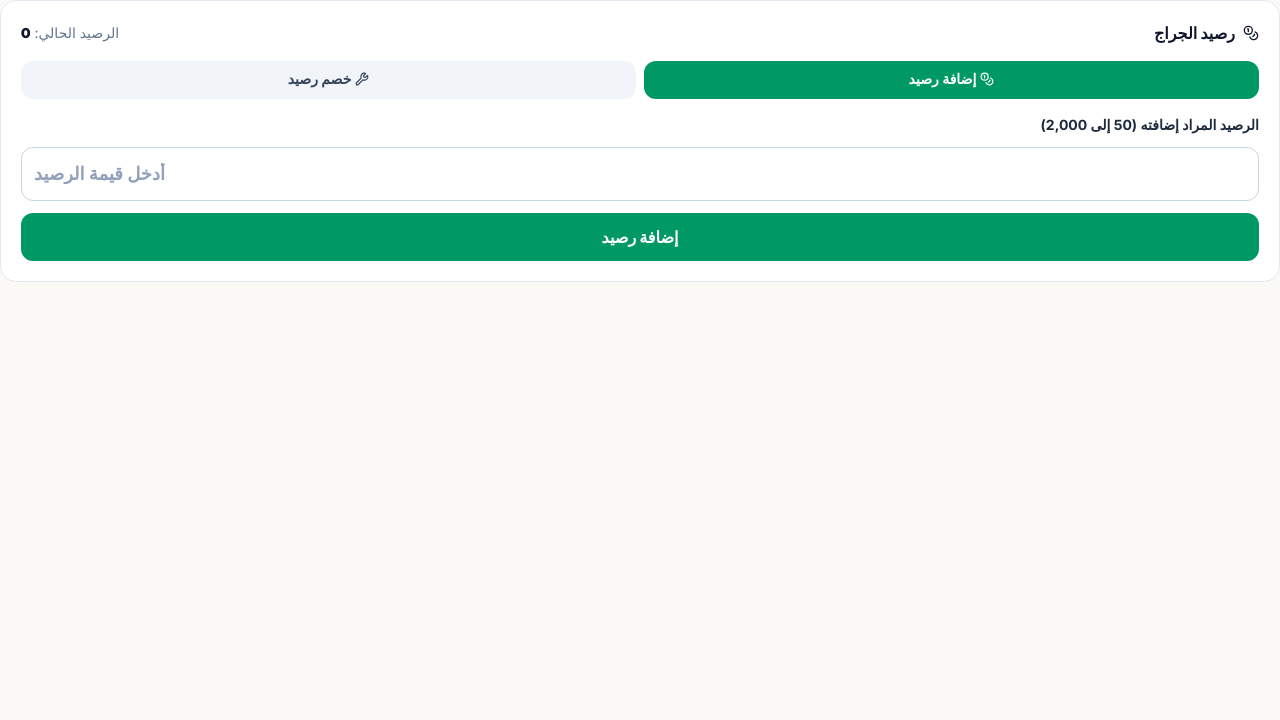
Test: AdminCreditGrantPanel › reuses the same idempotency key when retrying an ambiguous failed grant
The image size is (1280, 720).
Step 1. Type "100" into the field labelled "الرصيد المراد إضافته (50 إلى 2,000)" → [640, 174], box [21,147,1259,201]
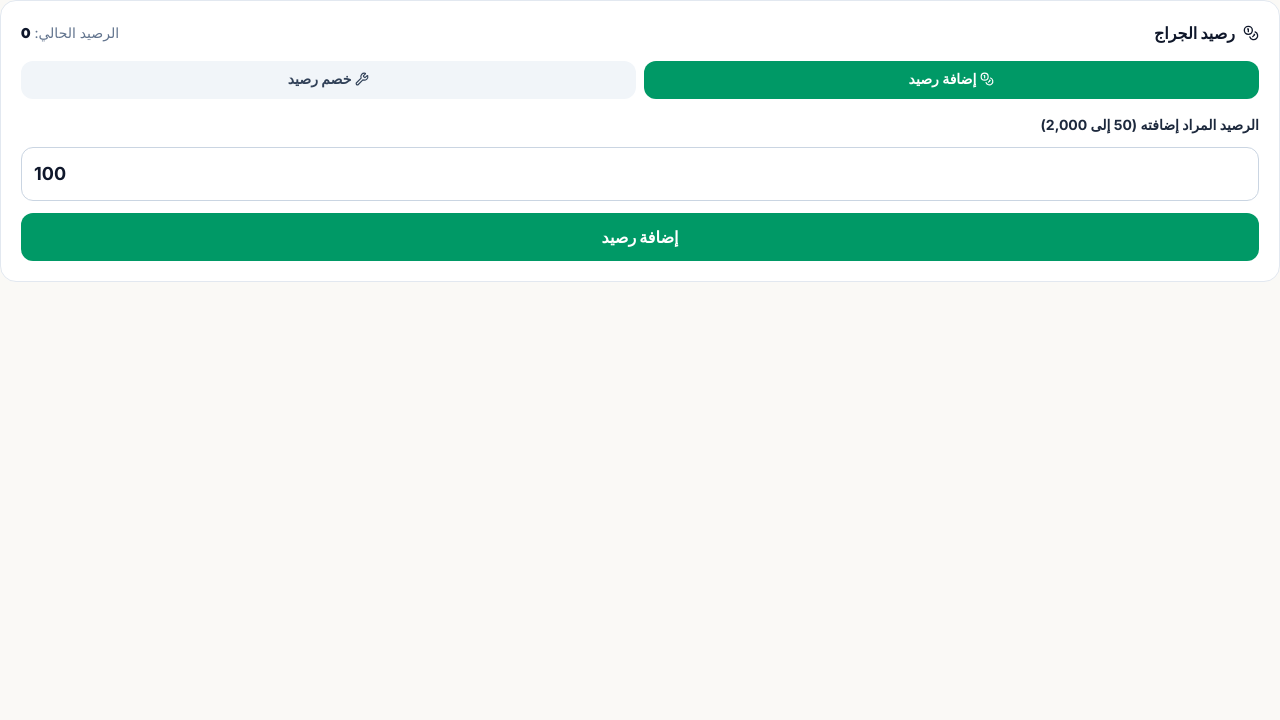
Step 2. Click the button "إضافة رصيد" → [640, 237], box [21,213,1259,261]
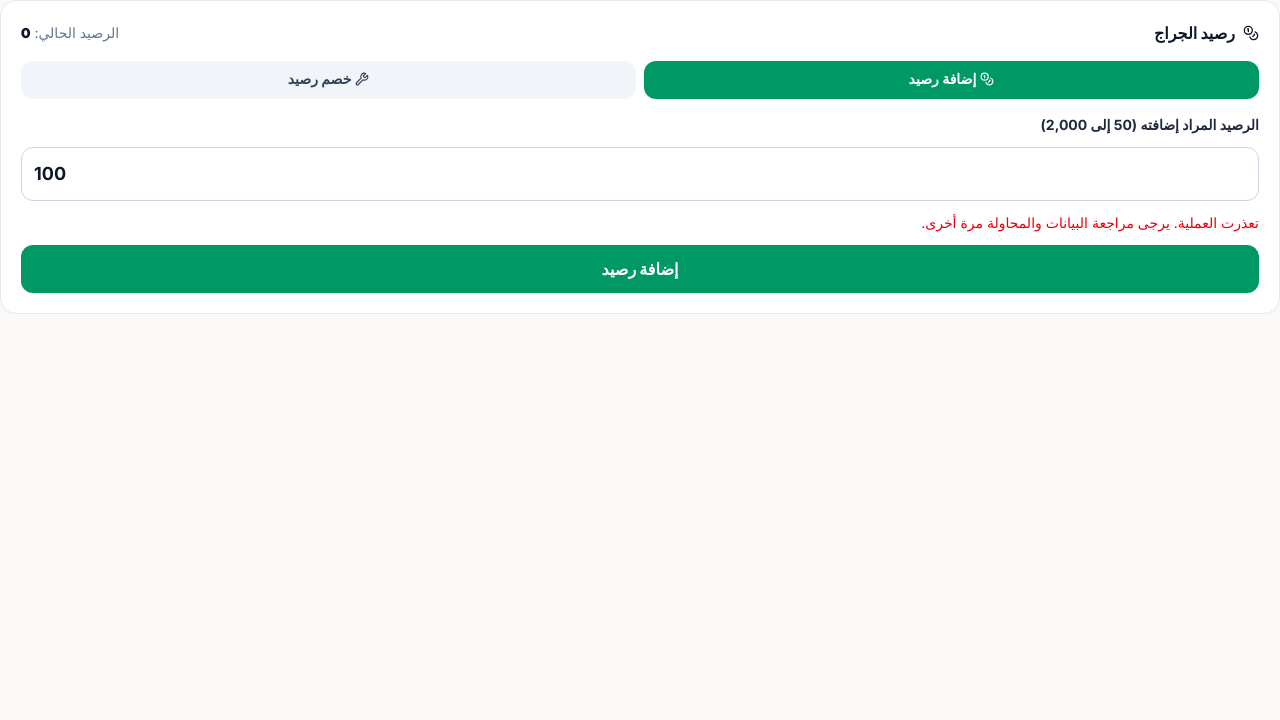
Result: the message reads "تعذرت العملية. يرجى مراجعة البيانات والمحاولة مرة أخرى." at [921,214,1259,231]
Step 3. Click the button "إضافة رصيد" → [640, 269], box [21,245,1259,293]
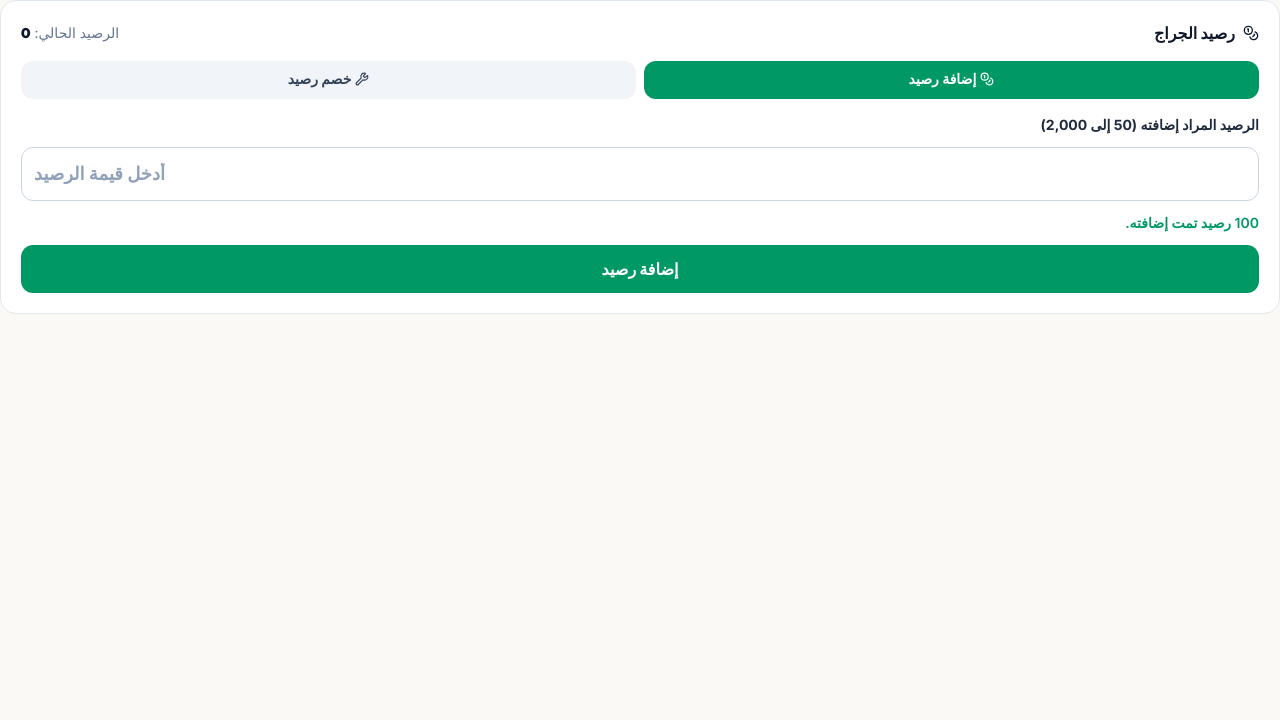
Result: the message reads "100 رصيد تمت إضافته." at [1125,214,1259,231]
